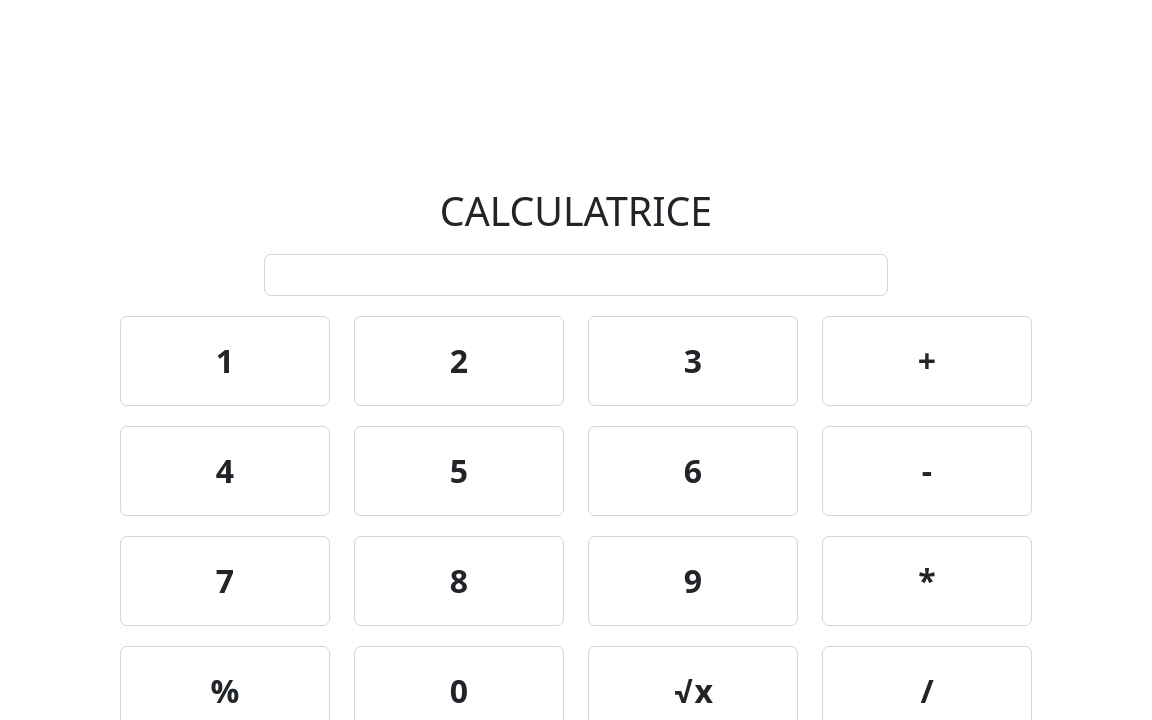
Test: substraction fonctional
The image size is (1152, 720).
(page scrolled)
What coordinates should you click on to do the following:
click the text with class "touch" showing "1"
I would click on:
 (225, 361)
Its box is top-left (120, 316), bottom-right (330, 406).
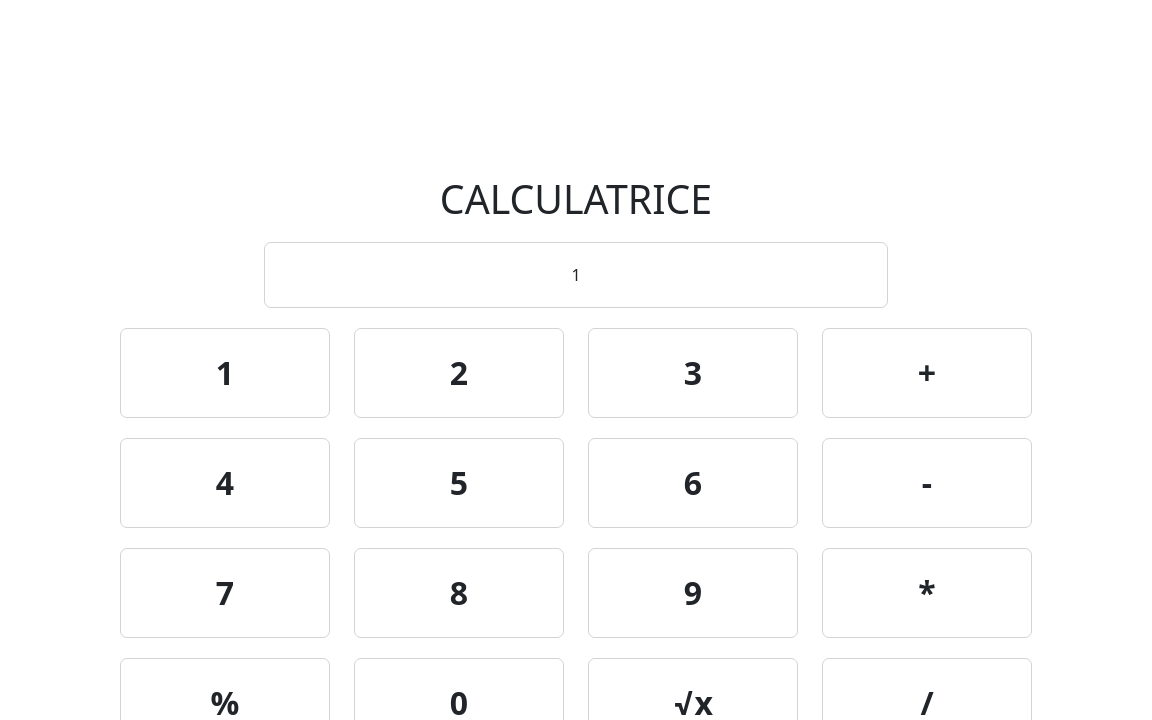
What coordinates should you click on to do the following:
click the text with class "touch" showing "2"
I would click on:
 (459, 373)
Its box is top-left (354, 328), bottom-right (564, 418).
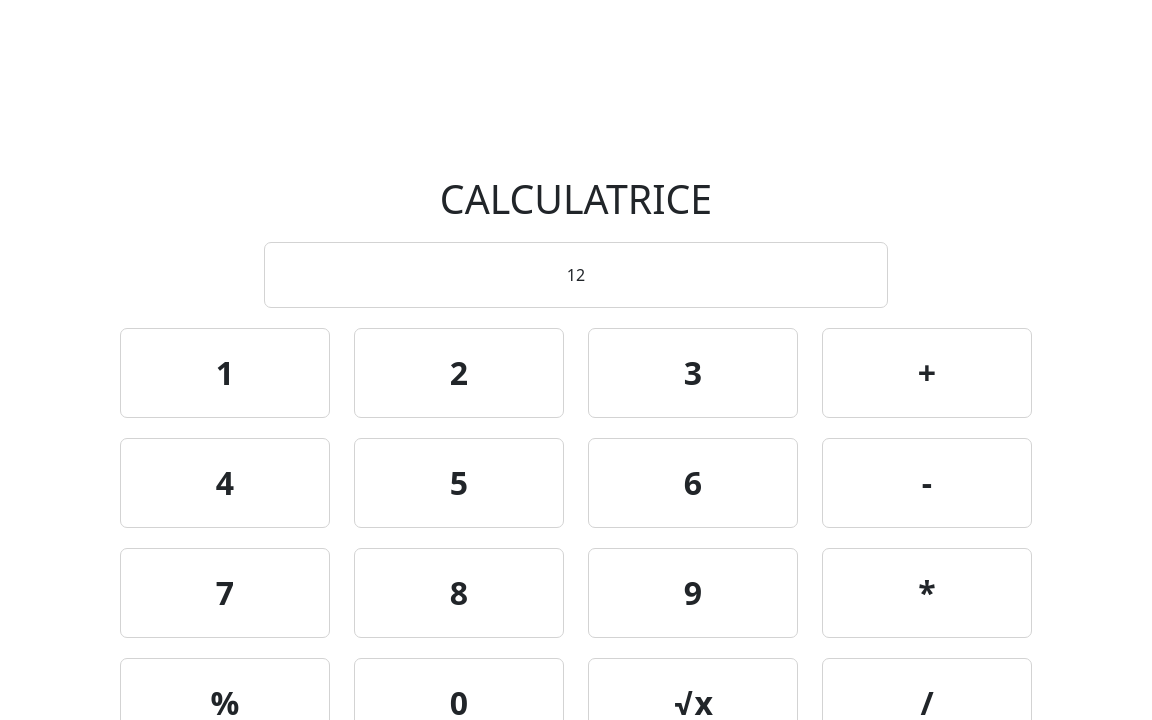
What coordinates should you click on to do the following:
click the text with class "touch" showing "-"
I would click on:
 (927, 483)
Its box is top-left (822, 438), bottom-right (1032, 528).
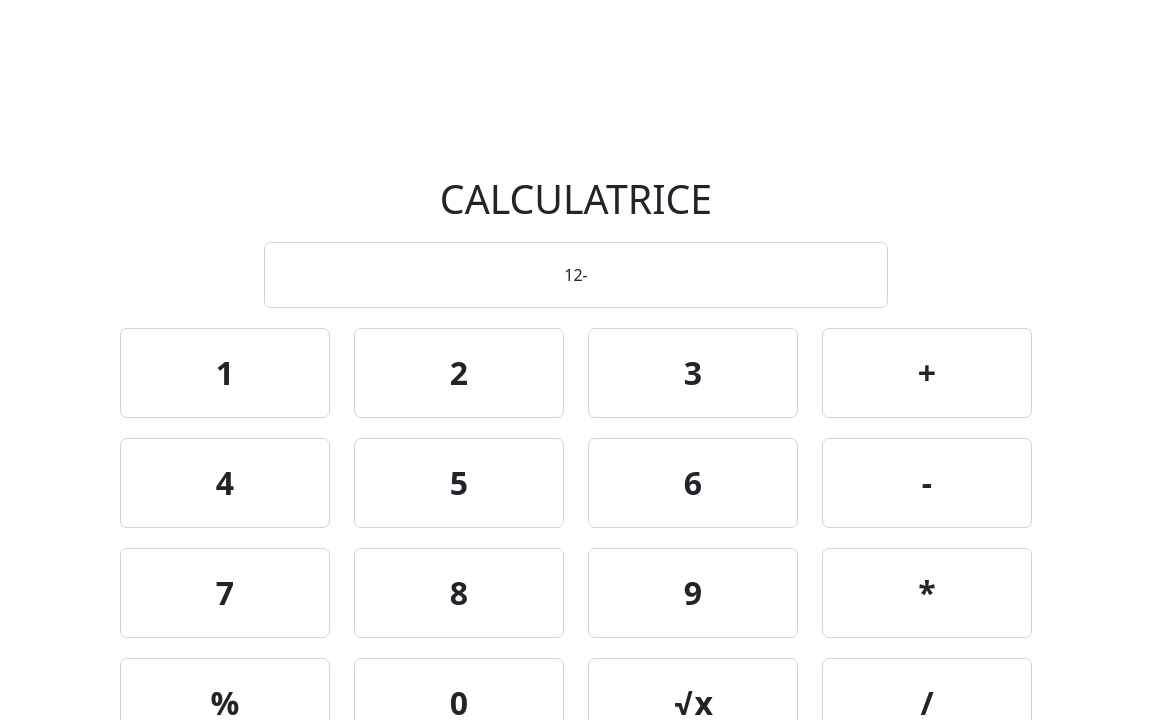
What coordinates should you click on to do the following:
click the text with class "touch" showing "1"
I would click on:
 (225, 373)
Its box is top-left (120, 328), bottom-right (330, 418).
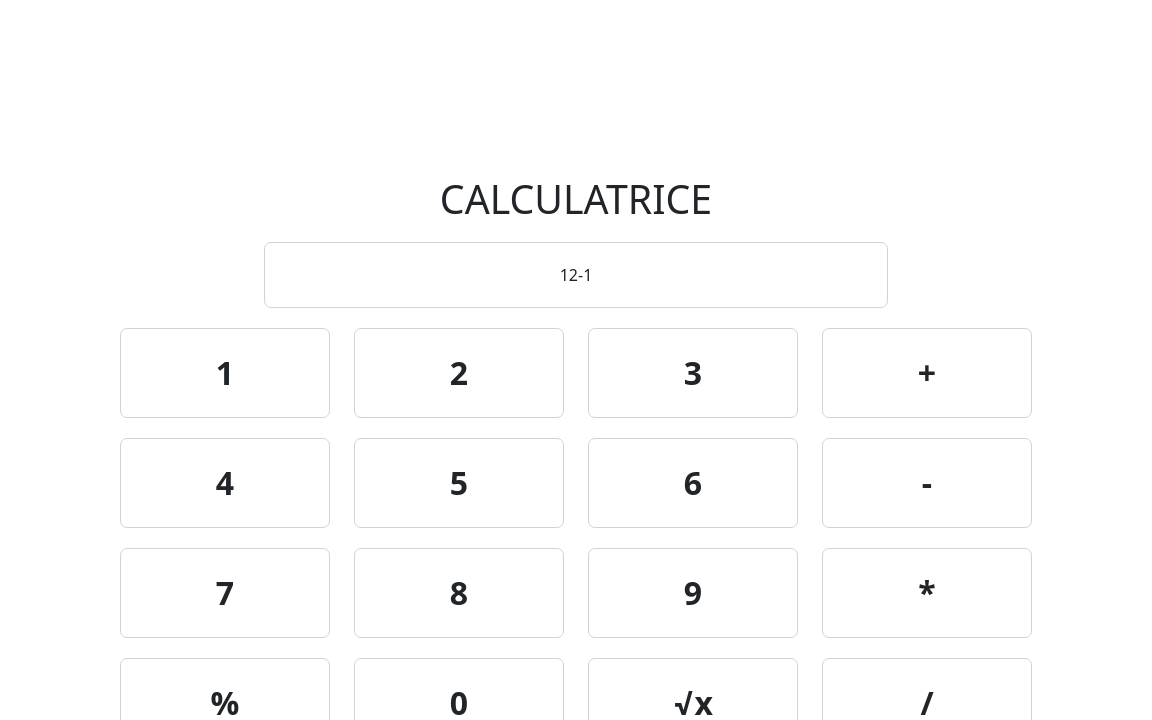
What coordinates should you click on to do the following:
click the text with class "touch" showing "2"
I would click on:
 (459, 373)
Its box is top-left (354, 328), bottom-right (564, 418).
(page scrolled)
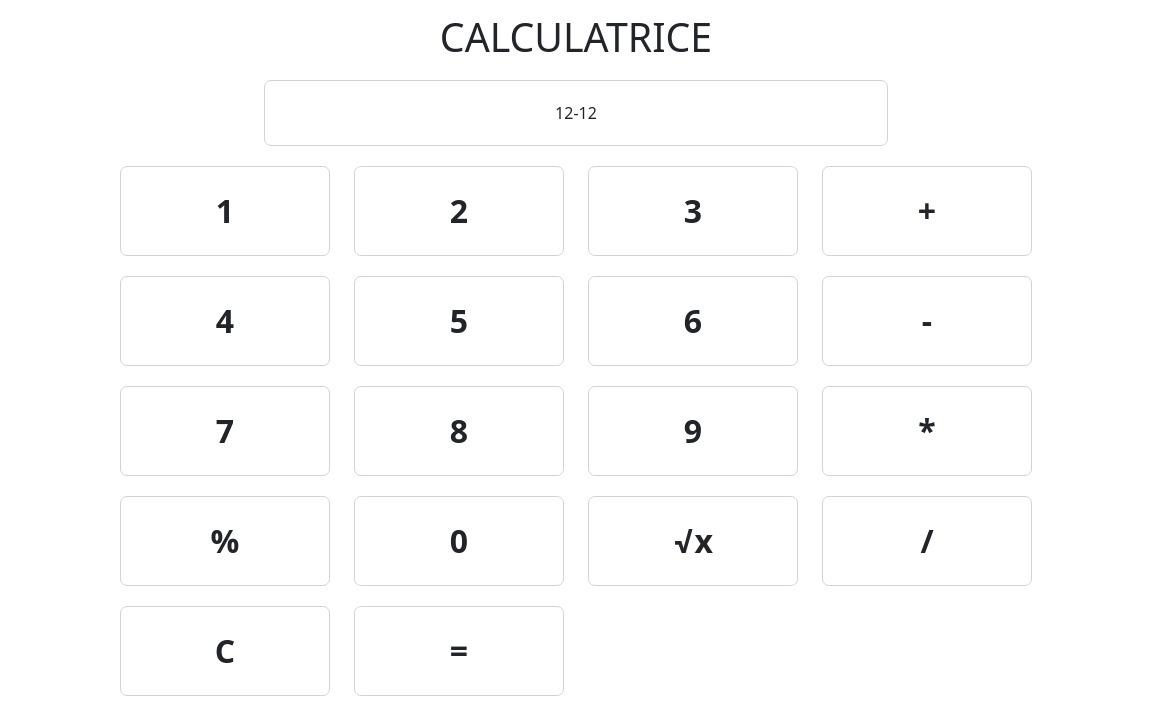
What coordinates should you click on to do the following:
click the text with class "touch" showing "="
I would click on:
 (459, 651)
Its box is top-left (354, 606), bottom-right (564, 696).
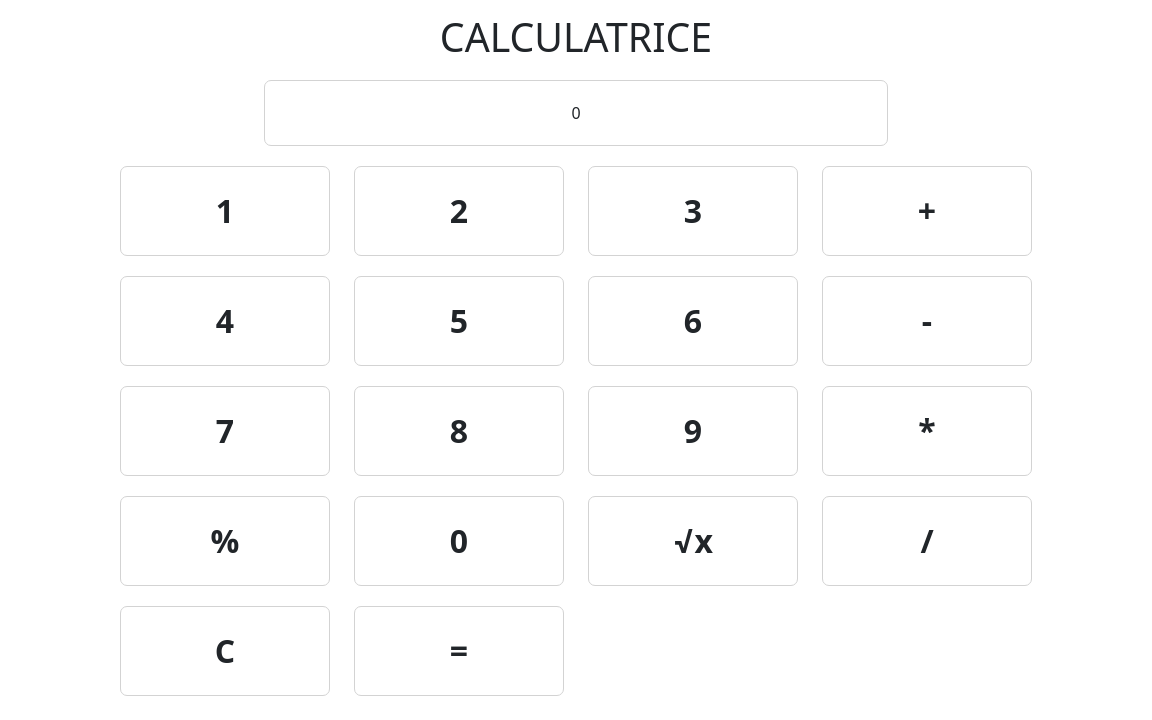
Expected: the text with class "result" reads "0", top-left (571, 102), bottom-right (581, 124)
